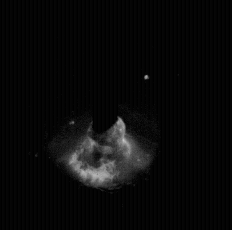arame: (93, 0, 119, 133)
poca: (48, 0, 157, 230)
